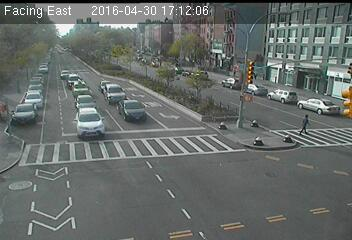neg: (228, 115, 254, 149), (137, 90, 160, 120), (4, 43, 25, 70), (223, 186, 243, 212), (190, 92, 209, 118), (314, 183, 332, 207), (193, 146, 211, 170), (74, 111, 90, 132), (31, 161, 45, 179), (110, 18, 123, 35), (12, 114, 24, 130), (242, 53, 253, 68), (206, 69, 216, 83), (75, 187, 84, 200), (160, 188, 167, 198), (295, 41, 299, 47)
pos: (296, 112, 314, 136)
